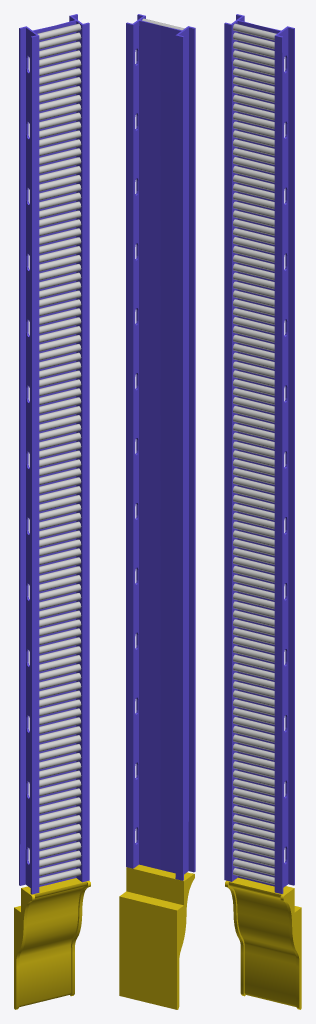
Rendered from ShippingContainer_Textured.obj.
3 renders of one model, left to right at view 1: azimuth 30°, elevation 25°; view 2: azimuth 150°, elevation 25°; view 3: azimuth 330°, elevation 25°, orthographic.
Visible parts, largest first — view 1: Conveyor, Conveyor_Rollers, Ramp; view 2: Conveyor, Ramp; view 3: Conveyor, Conveyor_Rollers, Ramp.
Boxes of the visible parts, bbox=[...] form: Conveyor: bbox=[19, 14, 89, 894]; Conveyor_Rollers: bbox=[37, 23, 81, 885]; Ramp: bbox=[14, 878, 90, 1009]; Conveyor: bbox=[126, 14, 195, 880]; Ramp: bbox=[119, 864, 194, 1009]; Conveyor: bbox=[224, 14, 294, 893]; Conveyor_Rollers: bbox=[233, 23, 276, 884]; Ramp: bbox=[225, 877, 301, 1009].
Size of the model in its own units: 0.8352 by 13.3 by 0.448.
